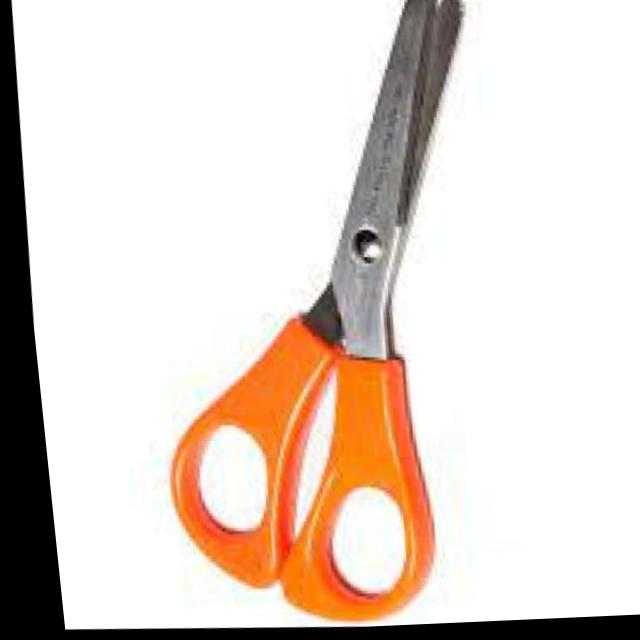scissor: (109, 0, 518, 636)
